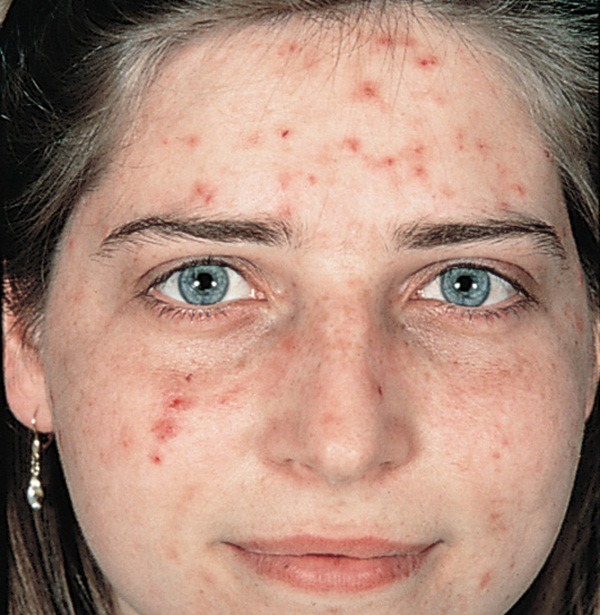Acne: (158, 392, 200, 422)
